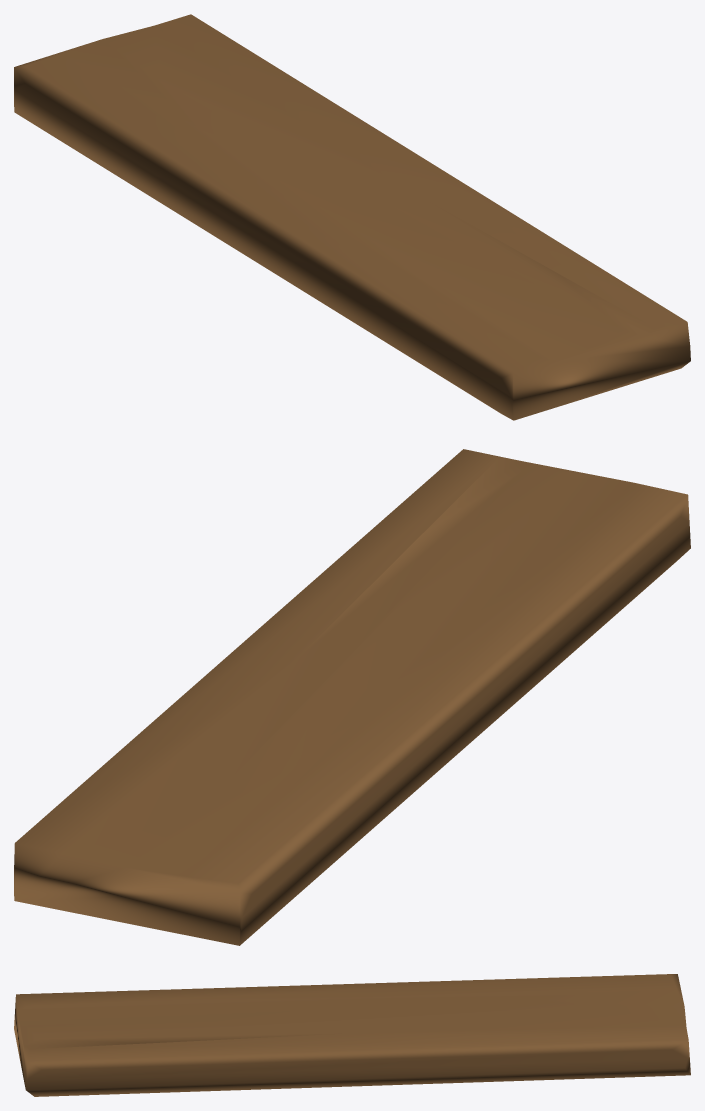
Rendered from plank_5.fbx.
3 views of the same model, one above another, from view 1: azimuth 30°, elevation 25°; view 2: azimuth 150°, elevation 25°; view 3: azimuth 270°, elevation 25° (orthographic). The views are drawn at different scales.
Visible parts, largest first — view 1: plank.001; view 2: plank.001; view 3: plank.001.
Part boxes in pixels (<box>): plank.001: <box>14,14,690,420</box>; plank.001: <box>14,449,690,945</box>; plank.001: <box>14,974,690,1096</box>.
Size of the model in its own units: 1702 by 334 by 5445.
